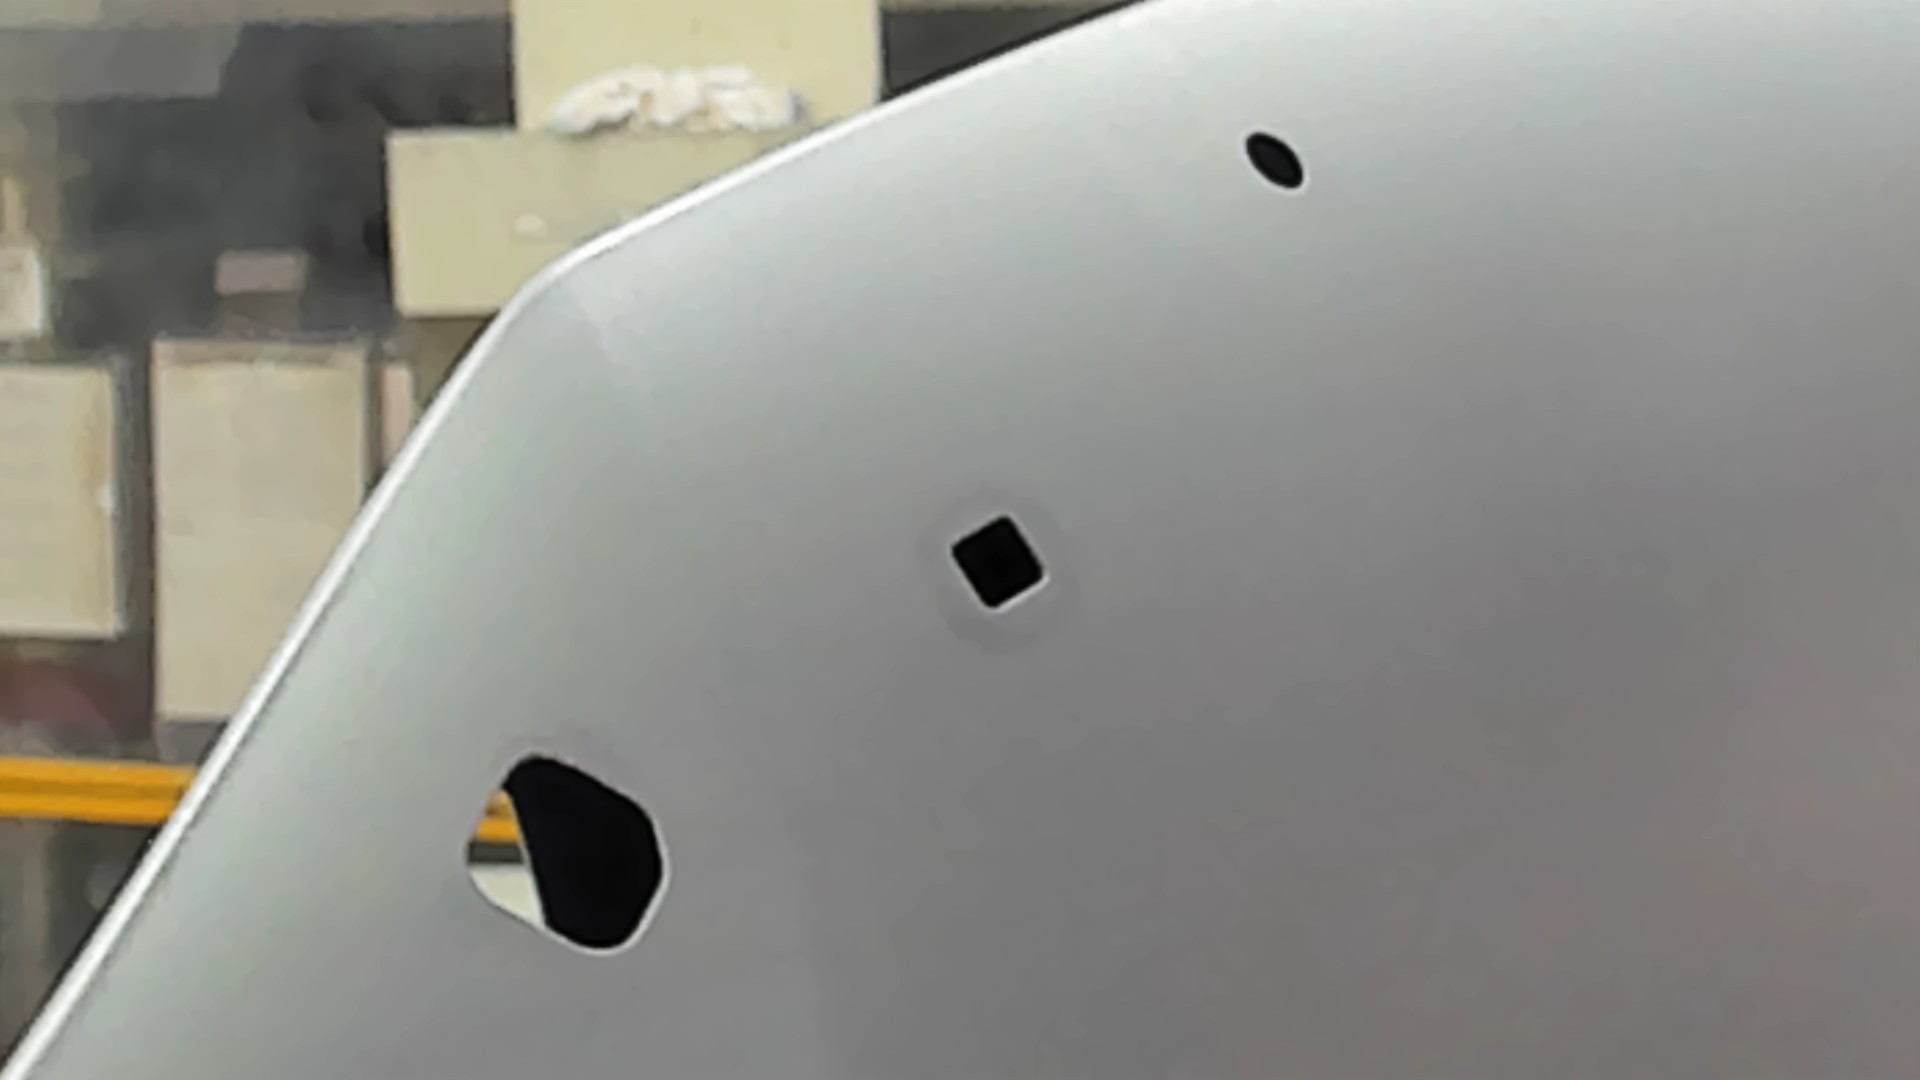chico: (1240, 127, 1313, 196)
grande: (454, 744, 675, 963)
mediano: (942, 509, 1054, 618)
